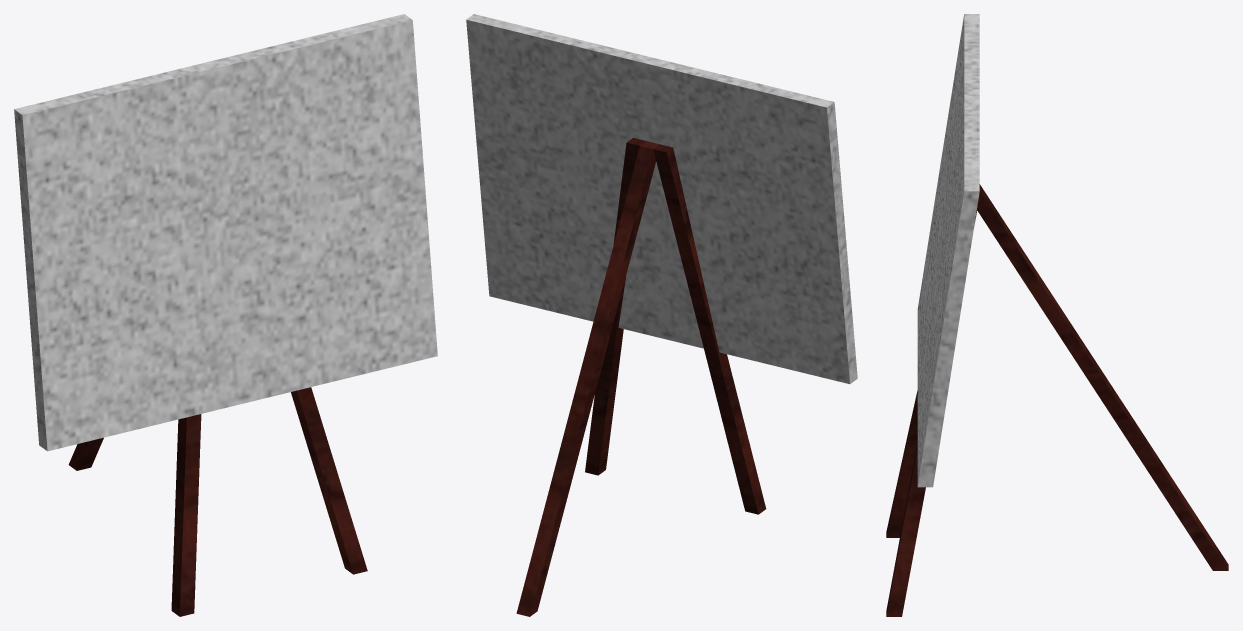
Rendered from Easel.gltf.
3 renders of one model, left to right at view 1: azimuth 30°, elevation 25°; view 2: azimuth 150°, elevation 25°; view 3: azimuth 270°, elevation 25°, orthographic. The views are drawn at different scales.
Visible parts, largest first — view 1: Easel; view 2: Easel; view 3: Easel.
Boxes of the visible parts, <box> form: Easel: <box>14,14,437,616</box>; Easel: <box>466,14,857,616</box>; Easel: <box>886,14,1228,616</box>.
Size of the model in its own units: 2.53 by 3.09 by 2.06.
2 materials, 2 textured.
